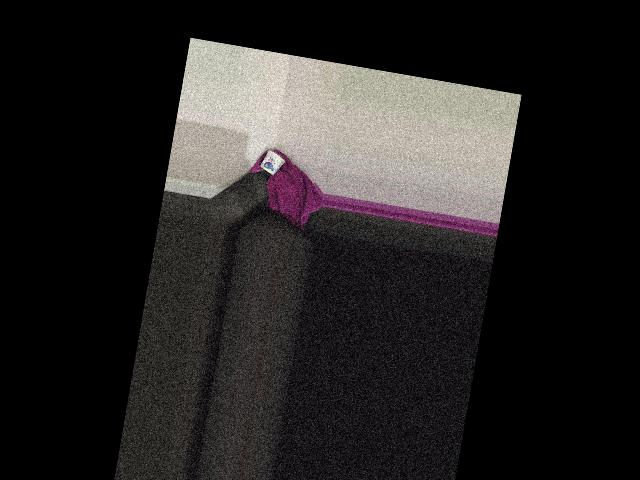cotage: (259, 147, 286, 176)
